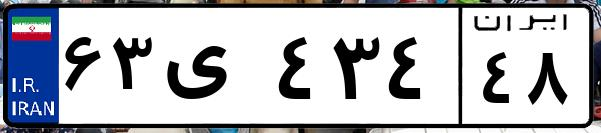3: (330, 28, 385, 110), (110, 28, 158, 98)
4: (270, 28, 330, 110), (385, 28, 445, 110), (475, 38, 525, 113)
6: (57, 26, 110, 100)
8: (525, 38, 570, 115)
ی: (158, 20, 270, 120)
